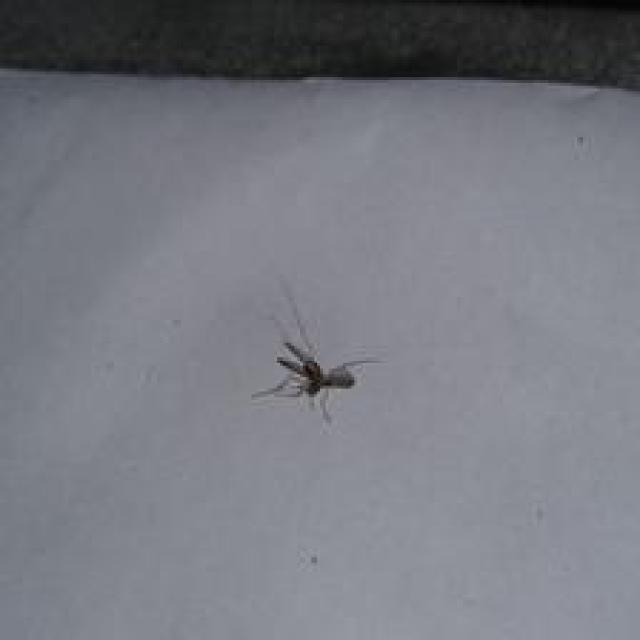Culex: (250, 277, 381, 426)
